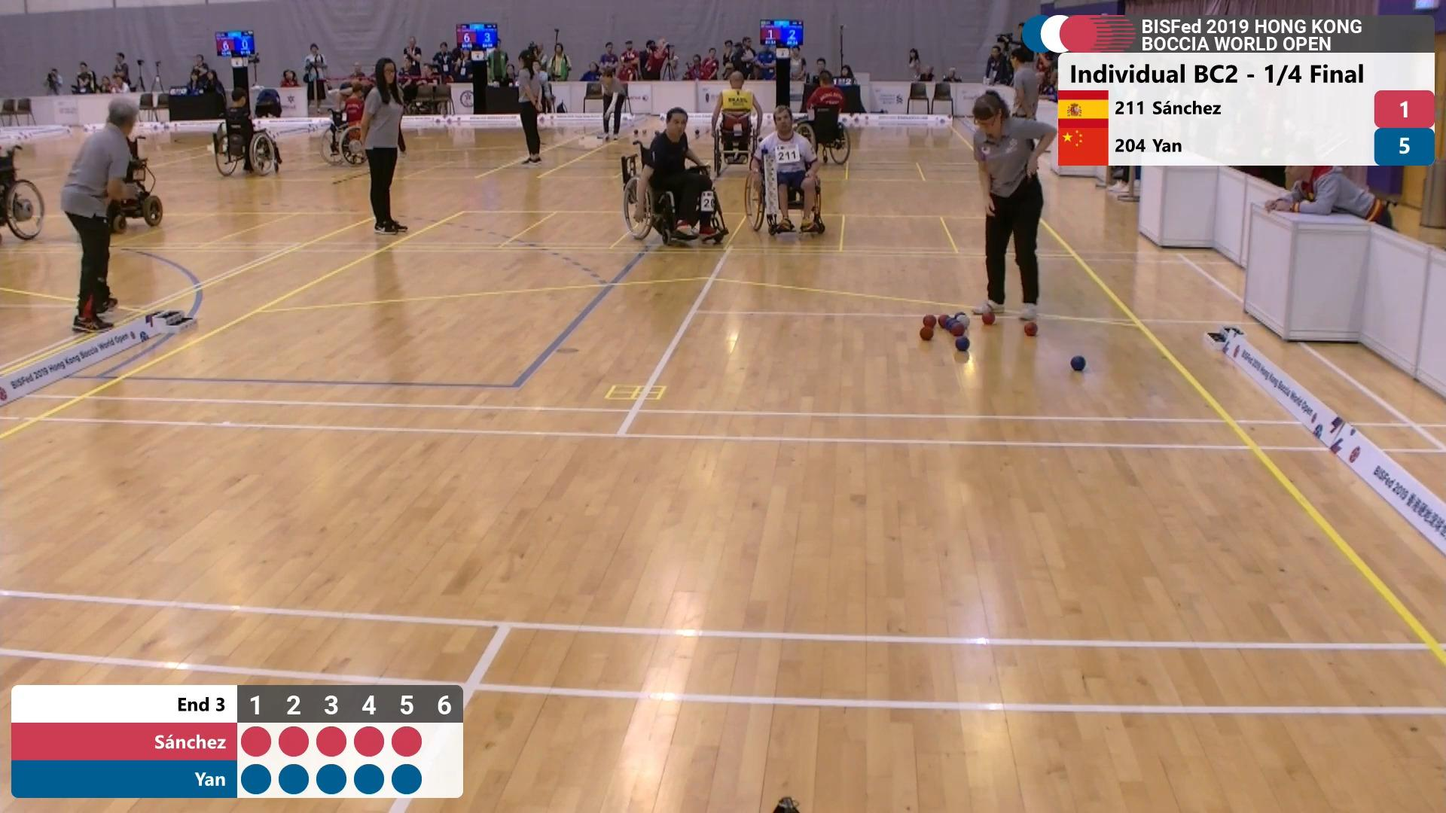blue_ball: (1070, 354, 1087, 373), (953, 335, 971, 352)
red_ball: (1022, 320, 1040, 337), (918, 326, 936, 342), (921, 312, 937, 329), (949, 321, 966, 337), (981, 311, 997, 327), (937, 314, 951, 329)
white_ball: (956, 313, 972, 328)
